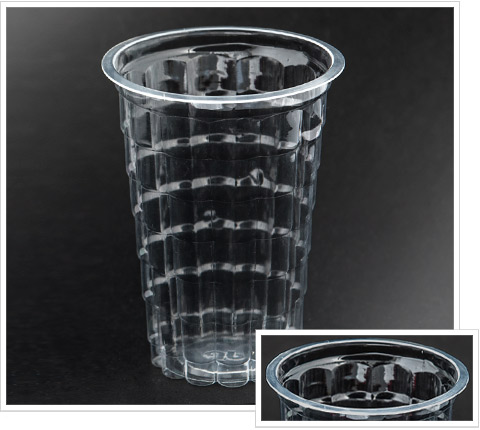plastic_glass: (95, 20, 341, 395)
